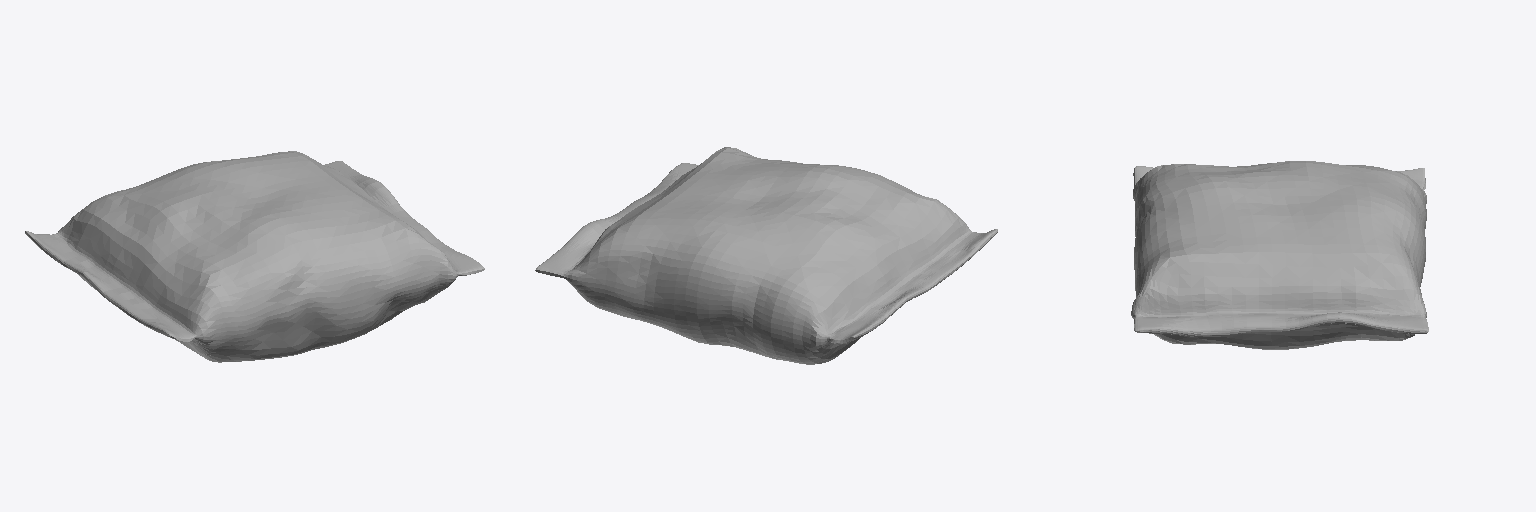
The model's file is package.obj.
3 renders of one model, left to right at view 1: azimuth 30°, elevation 25°; view 2: azimuth 150°, elevation 25°; view 3: azimuth 270°, elevation 25°, orthographic.
Parts seen in each view (by area): view 1: Retopo_Paquete.001_mesh; view 2: Retopo_Paquete.001_mesh; view 3: Retopo_Paquete.001_mesh.
Part boxes in pixels (bbox=[...]): Retopo_Paquete.001_mesh: bbox=[25, 151, 484, 362]; Retopo_Paquete.001_mesh: bbox=[535, 147, 997, 364]; Retopo_Paquete.001_mesh: bbox=[1131, 161, 1428, 349].
Bounding box in the file's own units: 0.3005 × 0.1154 × 0.2433.